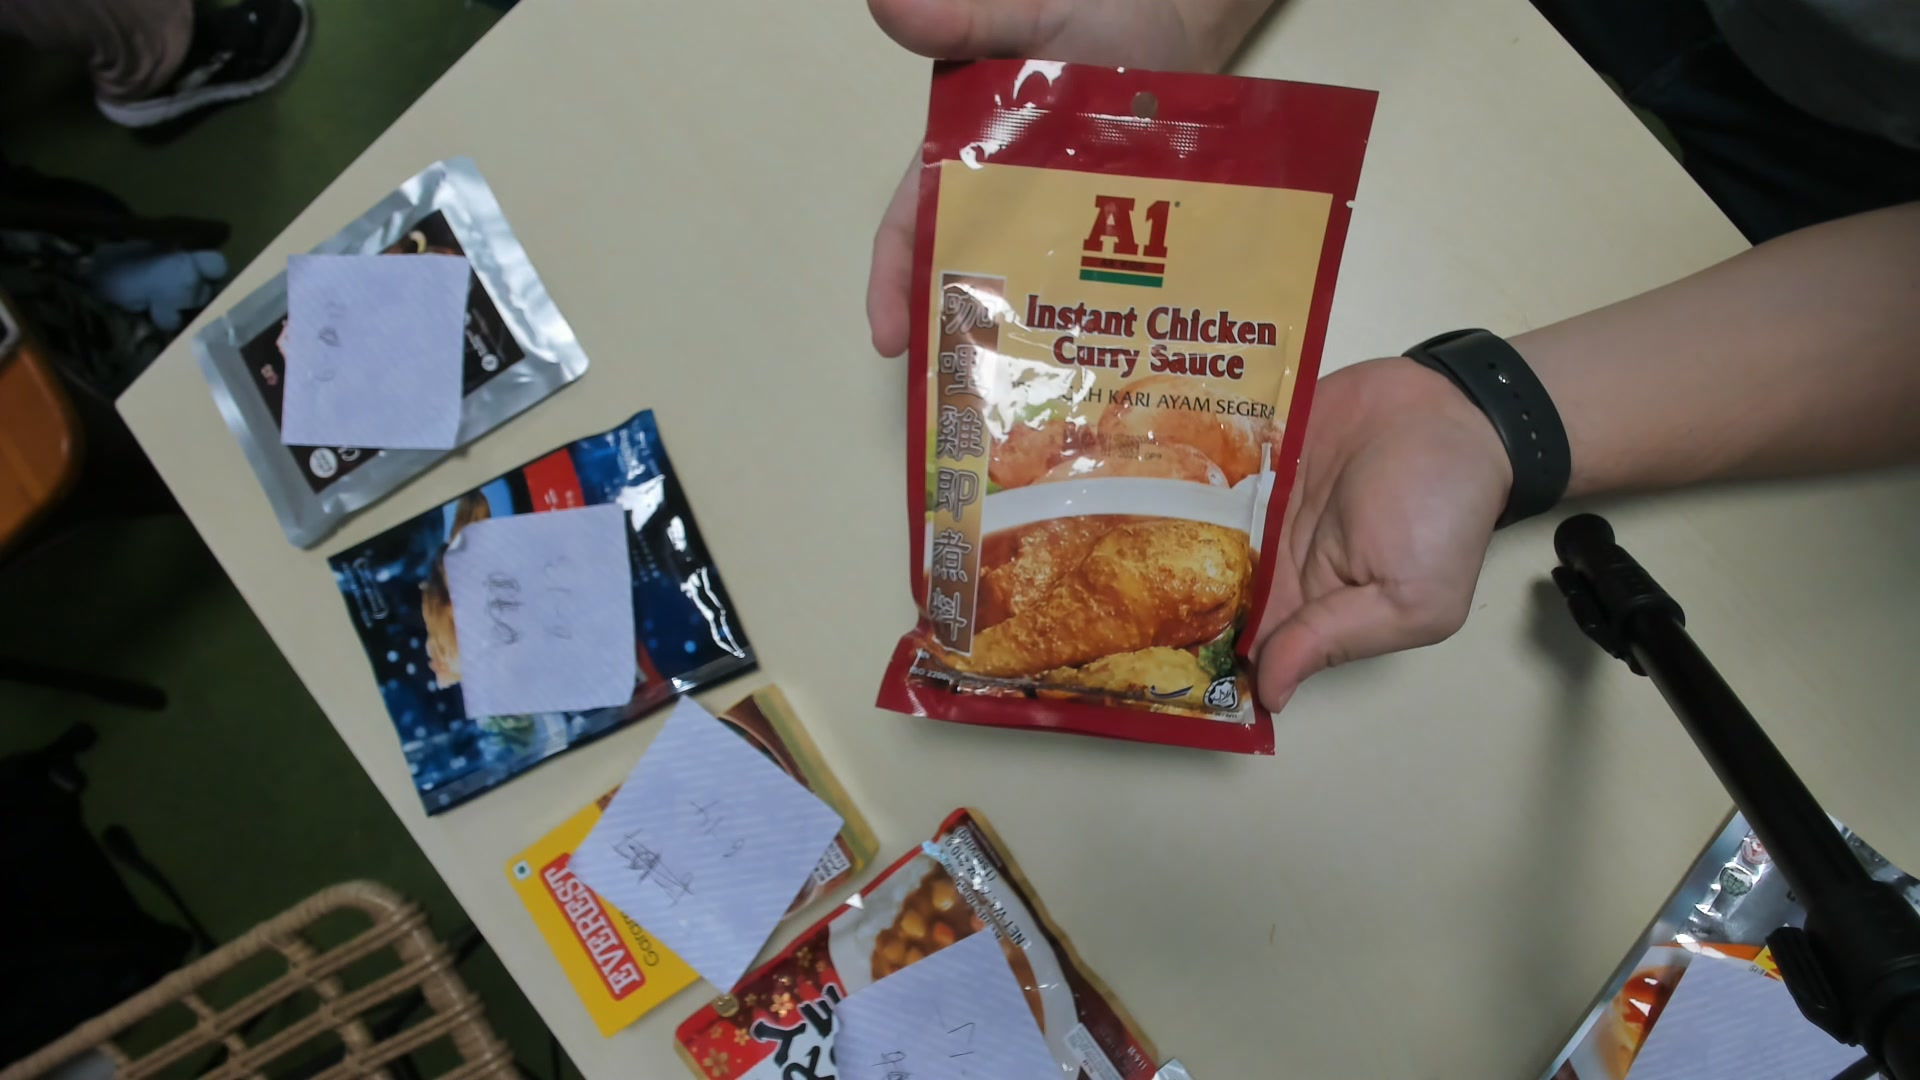CurryPastePowderSauce_200-299g_Halal_NonHealthy: (895, 50, 1349, 764)
